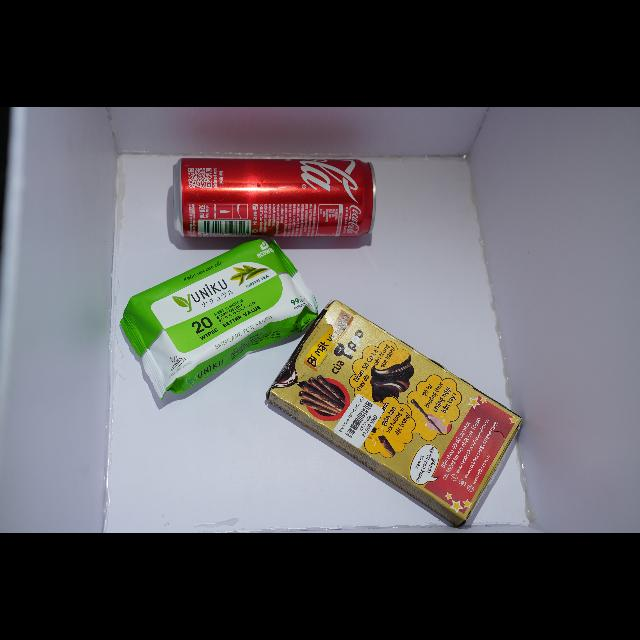banh_toppo_socola: (268, 300, 521, 526)
coca_cola: (174, 158, 375, 237)
khan_giay: (121, 240, 317, 397)
